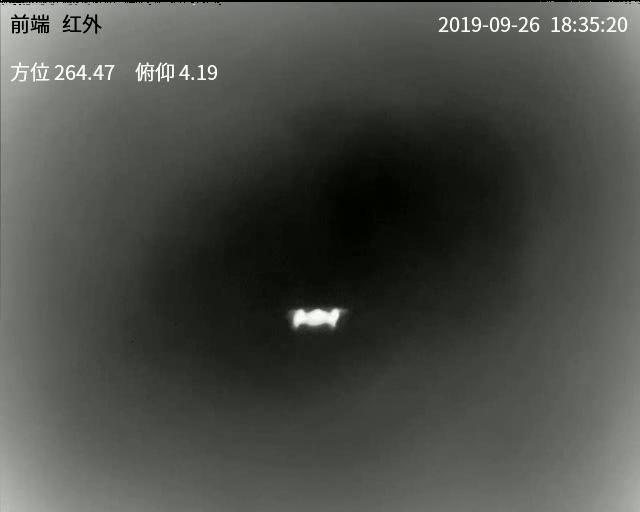DRONE: (290, 306, 342, 329)
